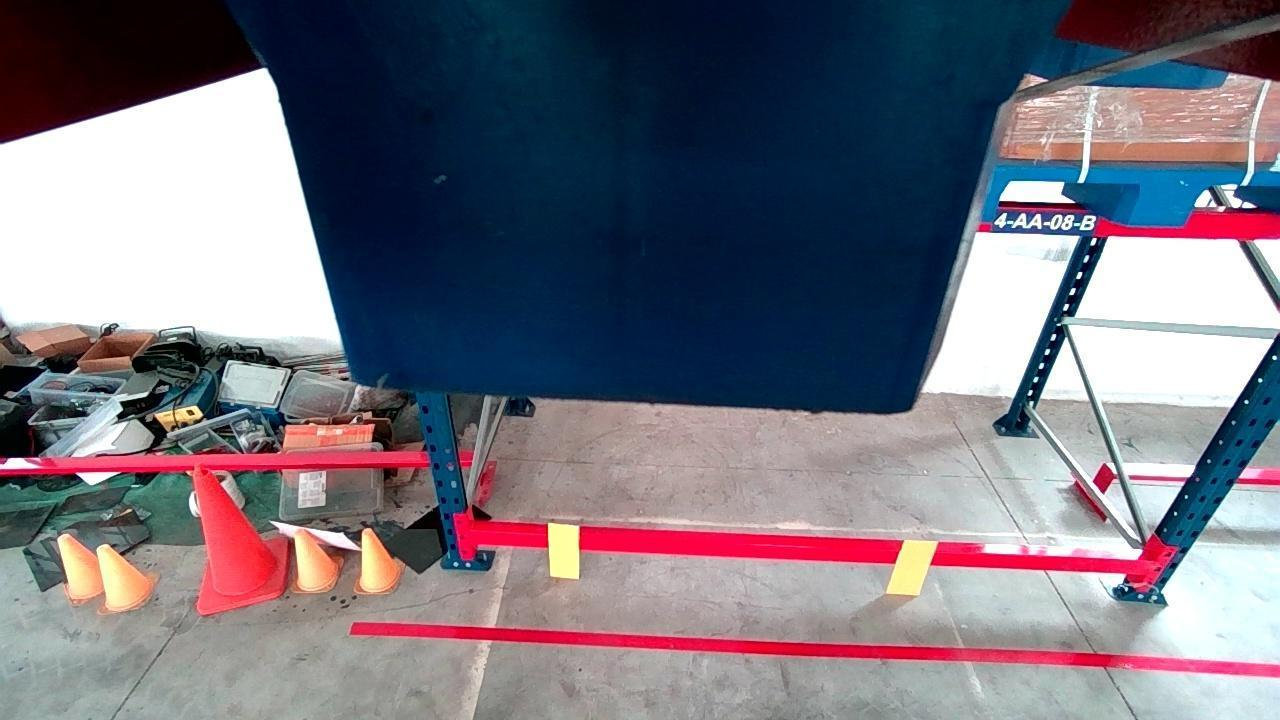h_rack: (472, 526, 1147, 570)
orange_strip: (888, 541, 933, 595), (549, 526, 579, 577)
red_line: (351, 622, 1280, 676)
small_pallet: (985, 153, 1280, 229)
